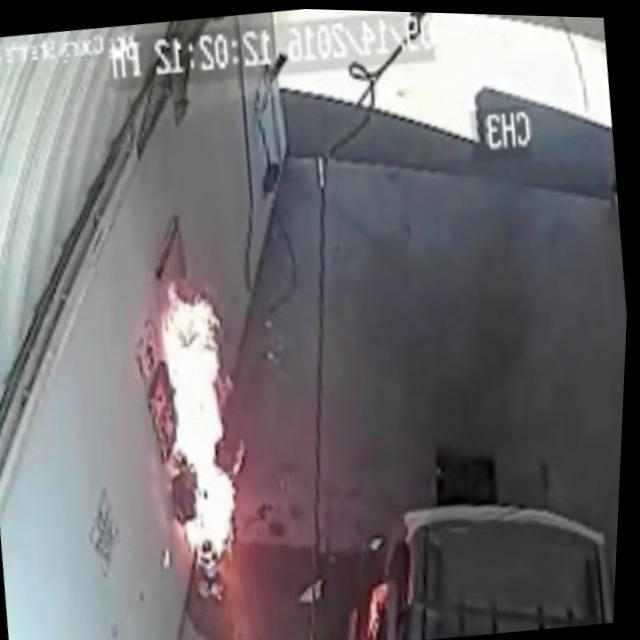fire: (137, 267, 268, 578)
